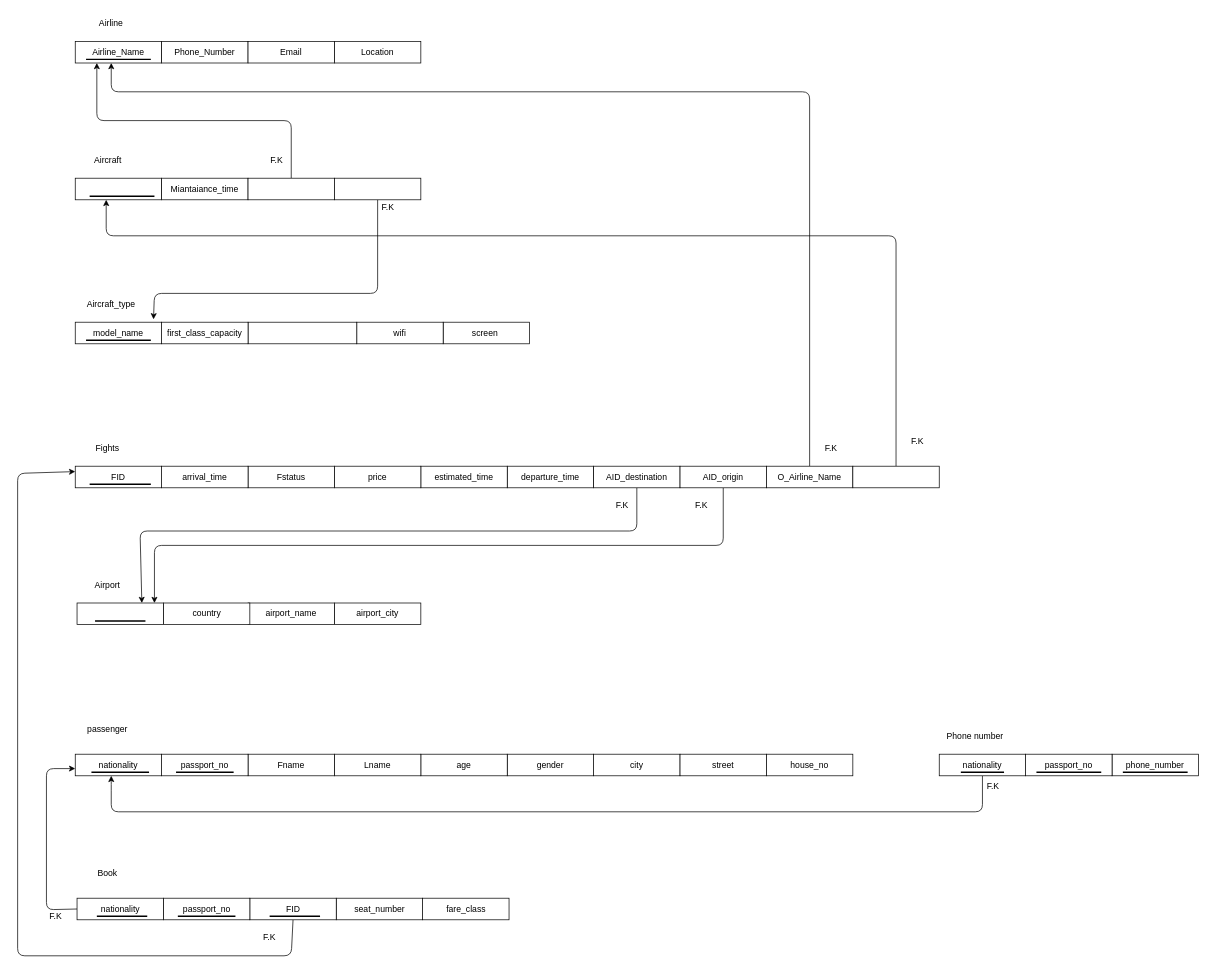
Image size: 1211x974. Some labels were removed from this diagram. Here are the shapes that lost their labels. From the top down, the centre of each, then its label:
At (x=118, y=188): "SN".
At (x=290, y=188): "Owns_Airline_Name".
At (x=377, y=188): "A_model_name".
At (x=302, y=332): "economy_class_capacity".
At (x=119, y=613): "AID".
